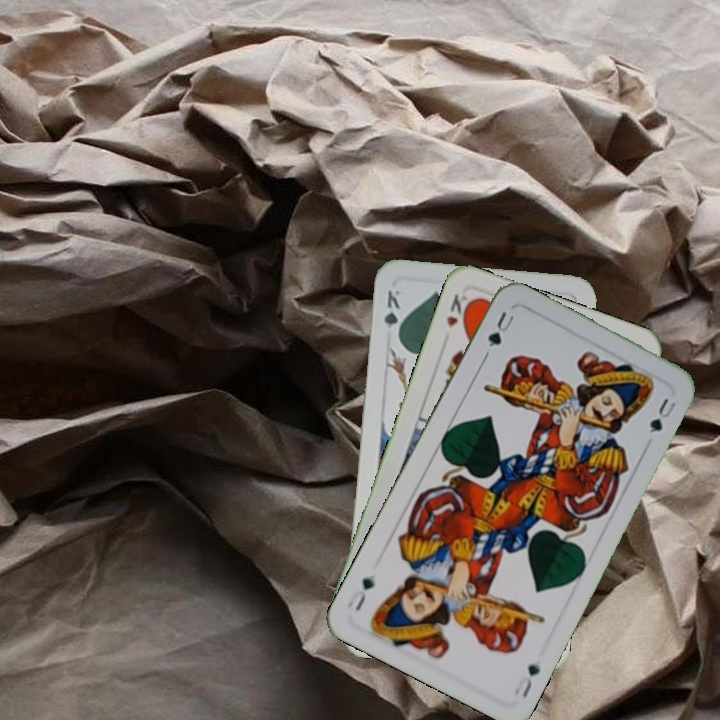GK: (380, 286, 403, 343)
GU: (483, 307, 517, 350), (510, 660, 543, 701)
HK: (442, 290, 475, 330)
